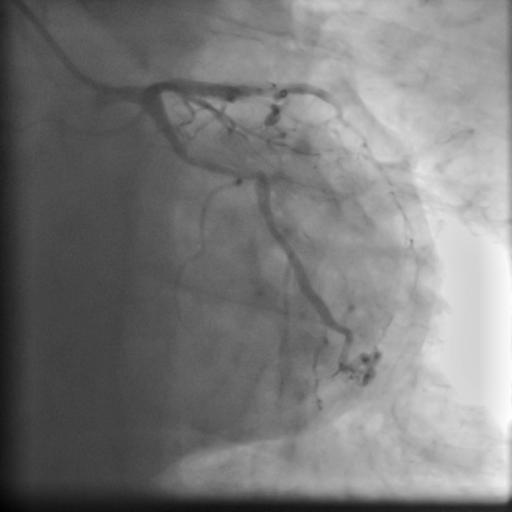Stenosis: (237, 166, 264, 187)
